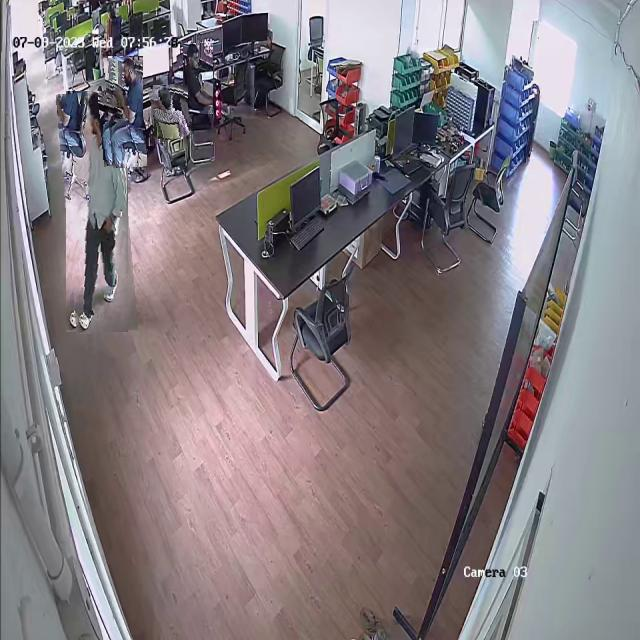person: (61, 90, 133, 333), (106, 56, 145, 168), (150, 84, 191, 140), (183, 43, 213, 114)
